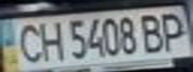0: (103, 15, 124, 57)
4: (84, 15, 106, 58)
5: (63, 16, 87, 60)
8: (118, 14, 142, 56)
B: (136, 11, 169, 54)
C: (9, 20, 45, 64)
H: (33, 18, 66, 63)
P: (154, 9, 193, 52)
